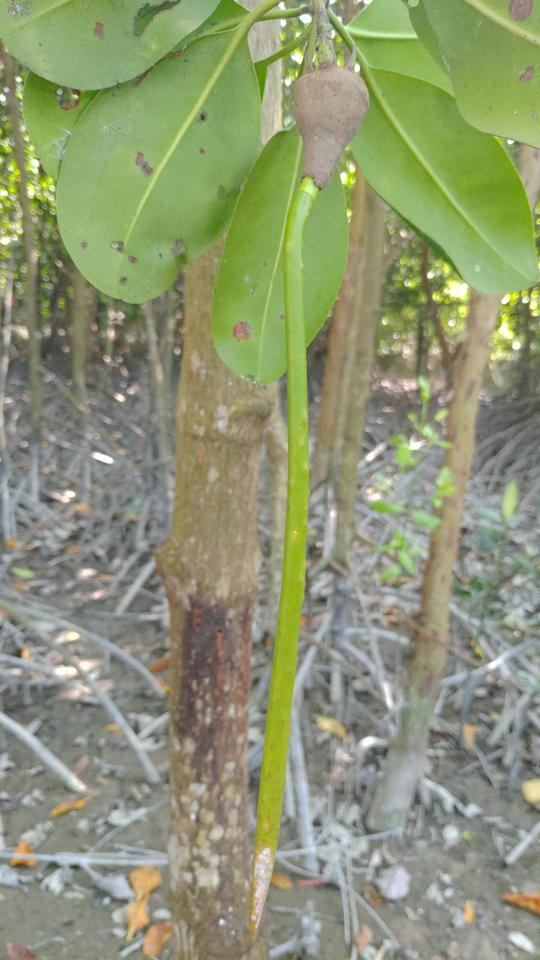setengah matang: (235, 36, 387, 945)
